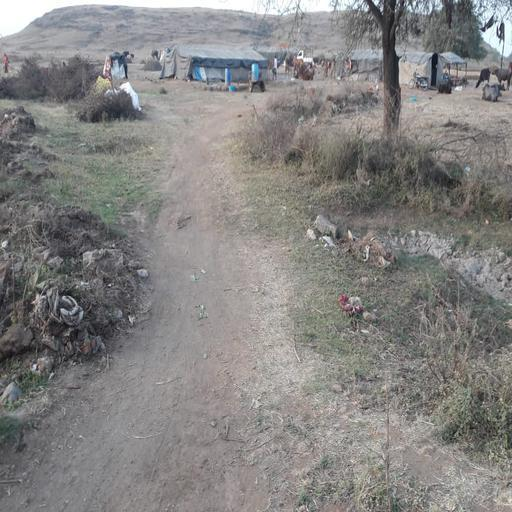vehicle_track: (0, 103, 260, 512)
